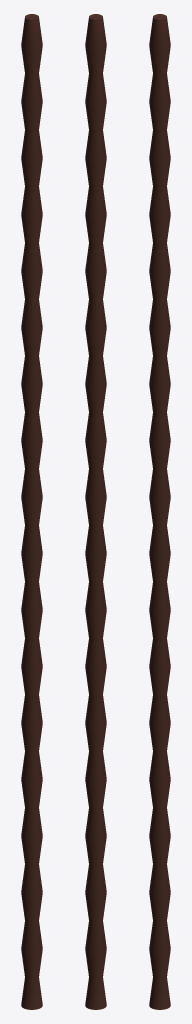
Rendered from Rope.fbx.
3 views of the same model, side by side, from view 1: azimuth 30°, elevation 25°; view 2: azimuth 210°, elevation 25°; view 3: azimuth 270°, elevation 25° (orthographic).
Visible parts, largest first — view 1: Cylinder001; view 2: Cylinder001; view 3: Cylinder001.
Part boxes in pixels (x1,y1,x2,y2): Cylinder001: (21, 14, 42, 1009); Cylinder001: (85, 14, 106, 1009); Cylinder001: (149, 14, 170, 1009).
Bounding box in the file's own units: 2 × 100 × 1.97.
1 material, 1 textured.
